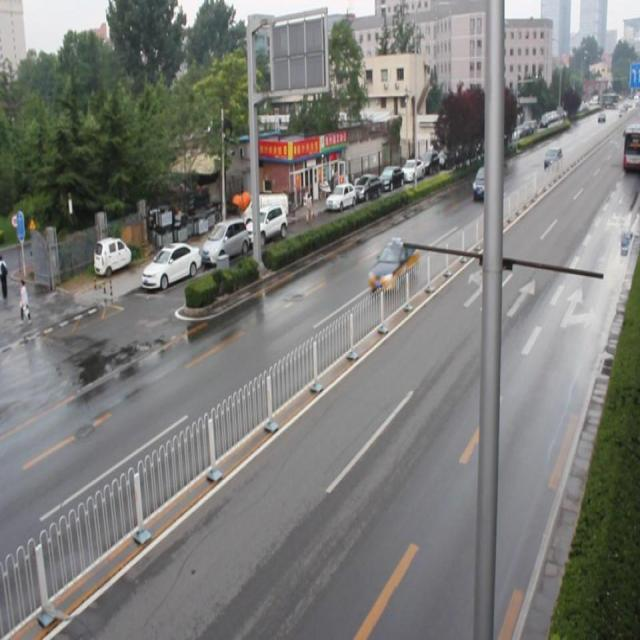car: (367, 238, 418, 292), (471, 165, 497, 198)
